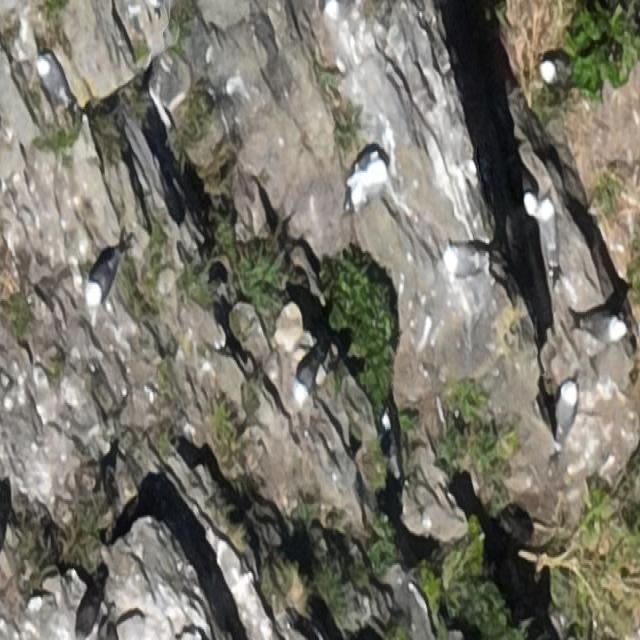umineko: (85, 246, 125, 307), (294, 341, 328, 402), (349, 153, 385, 210), (542, 202, 561, 284), (536, 59, 574, 91), (517, 166, 538, 219), (40, 61, 67, 102), (584, 314, 624, 338), (556, 387, 575, 434)
